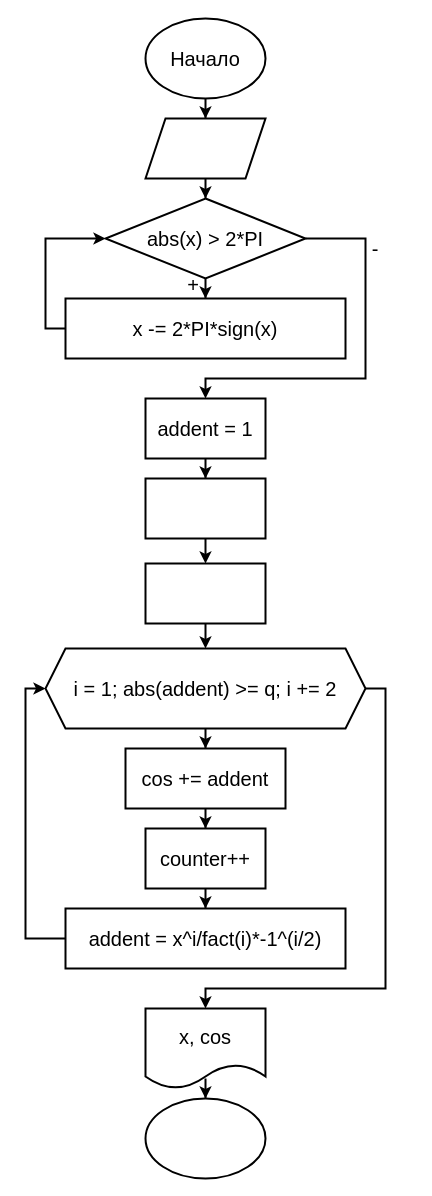
Image size: 432x1196. Some labels were removed from this diagram. Each missing label, with the centre of its shape:
cos = 0: [205,508]
counter = 0: [205,593]
x, q: [205,148]
Конец: [205,1138]
